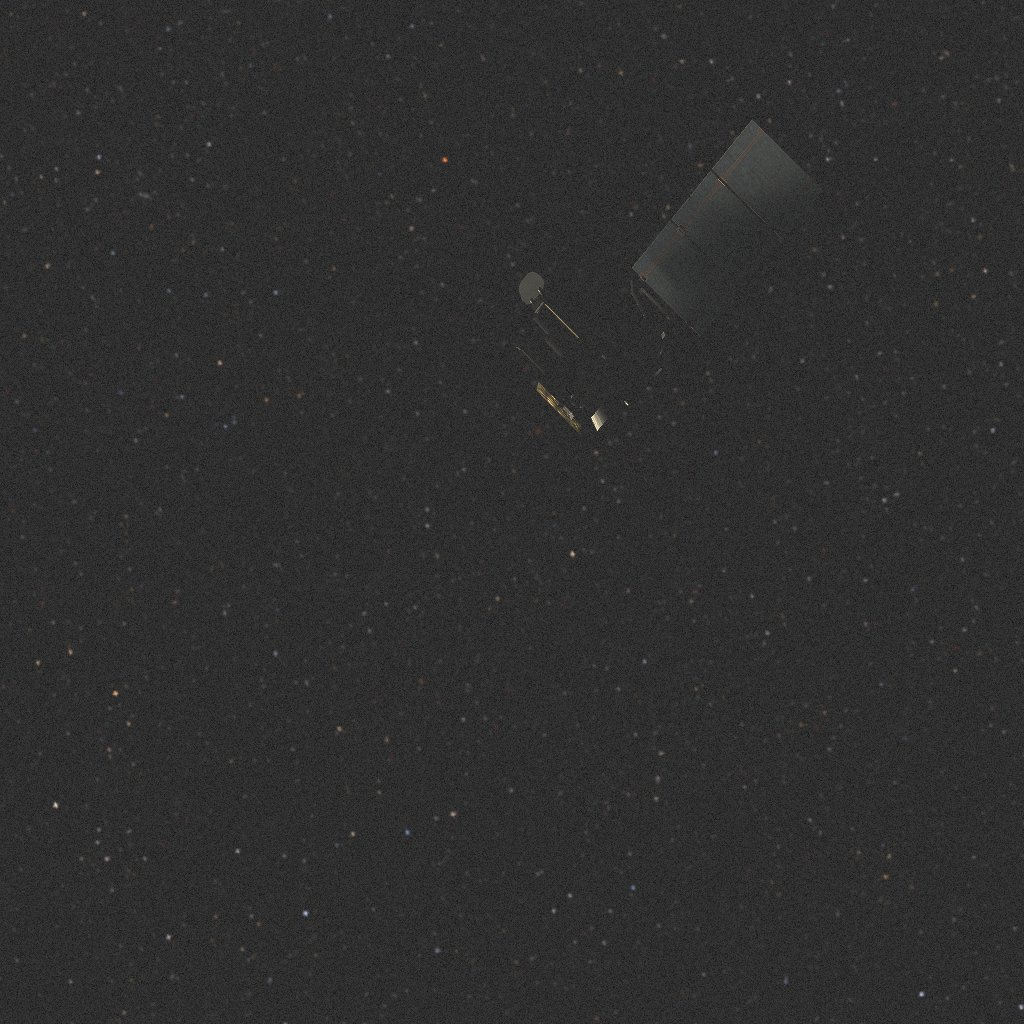earth_observation_sat_1: (503, 123, 813, 436)
